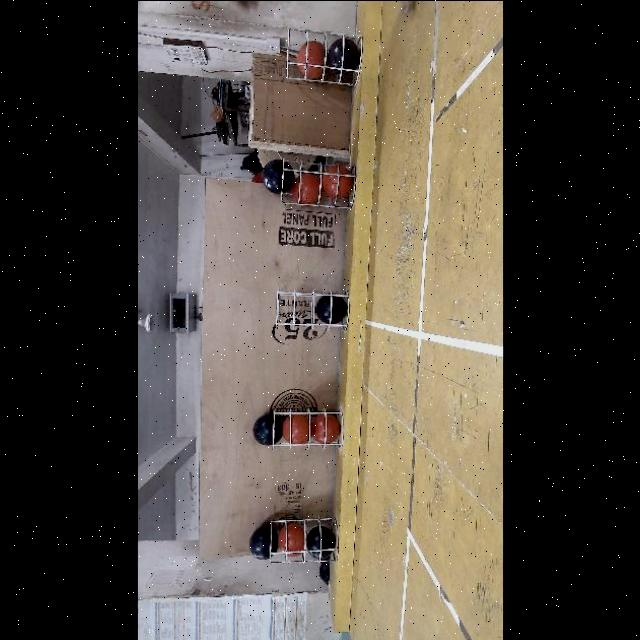P: (261, 157, 294, 193), (249, 524, 278, 559), (329, 39, 359, 71), (252, 414, 282, 444), (306, 526, 334, 558), (316, 294, 346, 322)
R: (322, 165, 354, 197), (298, 40, 326, 76), (294, 172, 324, 204), (277, 521, 303, 555), (283, 412, 309, 446), (312, 412, 336, 442)
S: (282, 25, 358, 89), (264, 508, 342, 568), (274, 160, 352, 212), (264, 403, 342, 451), (271, 287, 349, 325)
